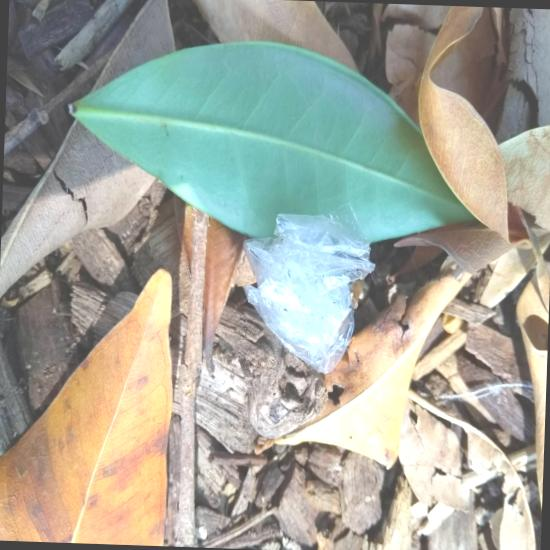Glass bottle: (439, 191, 505, 223)
Unlabeled litter: (499, 268, 507, 279)
